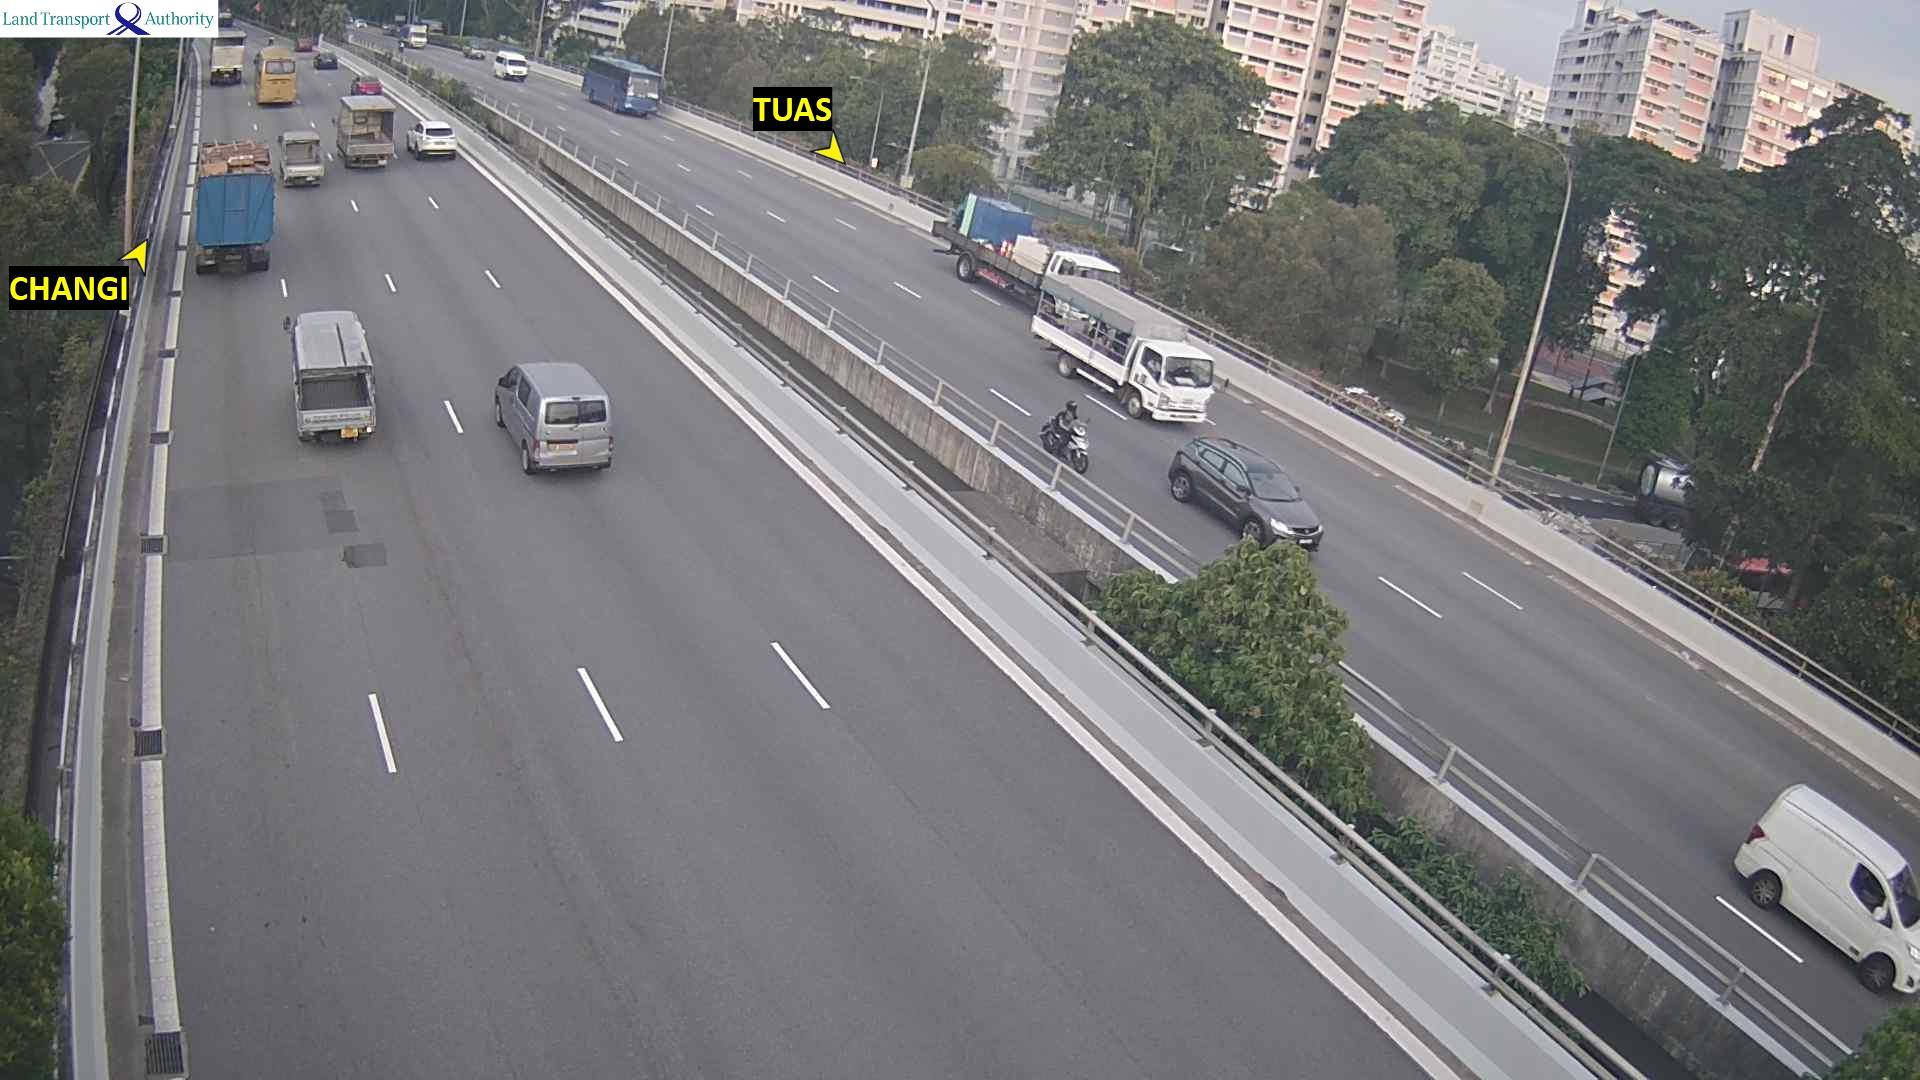incoming: (1855, 860, 1920, 1018), (1232, 465, 1327, 553), (1146, 342, 1233, 430), (620, 63, 666, 123), (1056, 415, 1098, 475), (501, 55, 531, 84), (465, 36, 489, 61), (407, 30, 429, 51), (394, 38, 406, 54)
